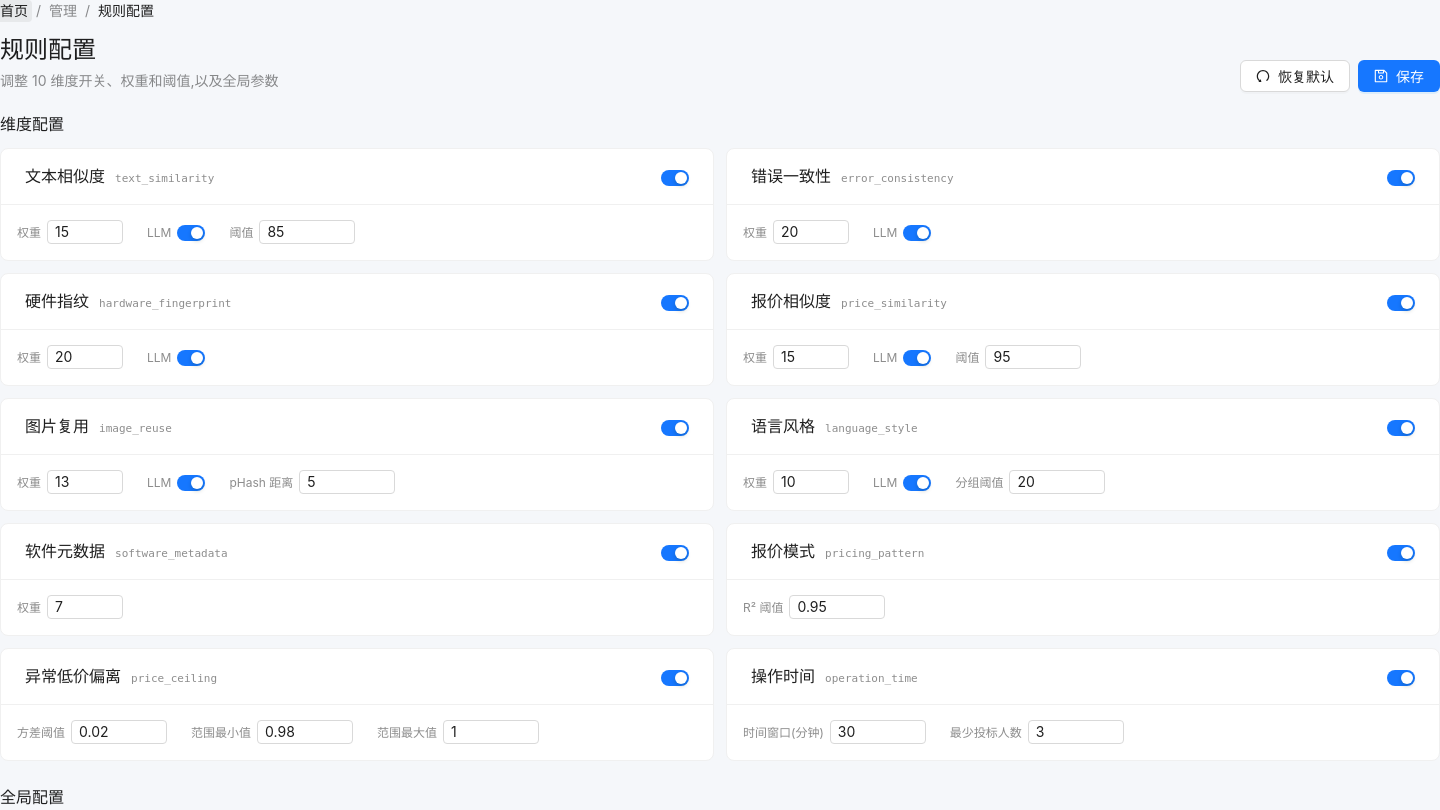
Test case: 恢复默认
Click the button with test id "restore-btn" at (1295, 76), box [1240,60,1350,92]
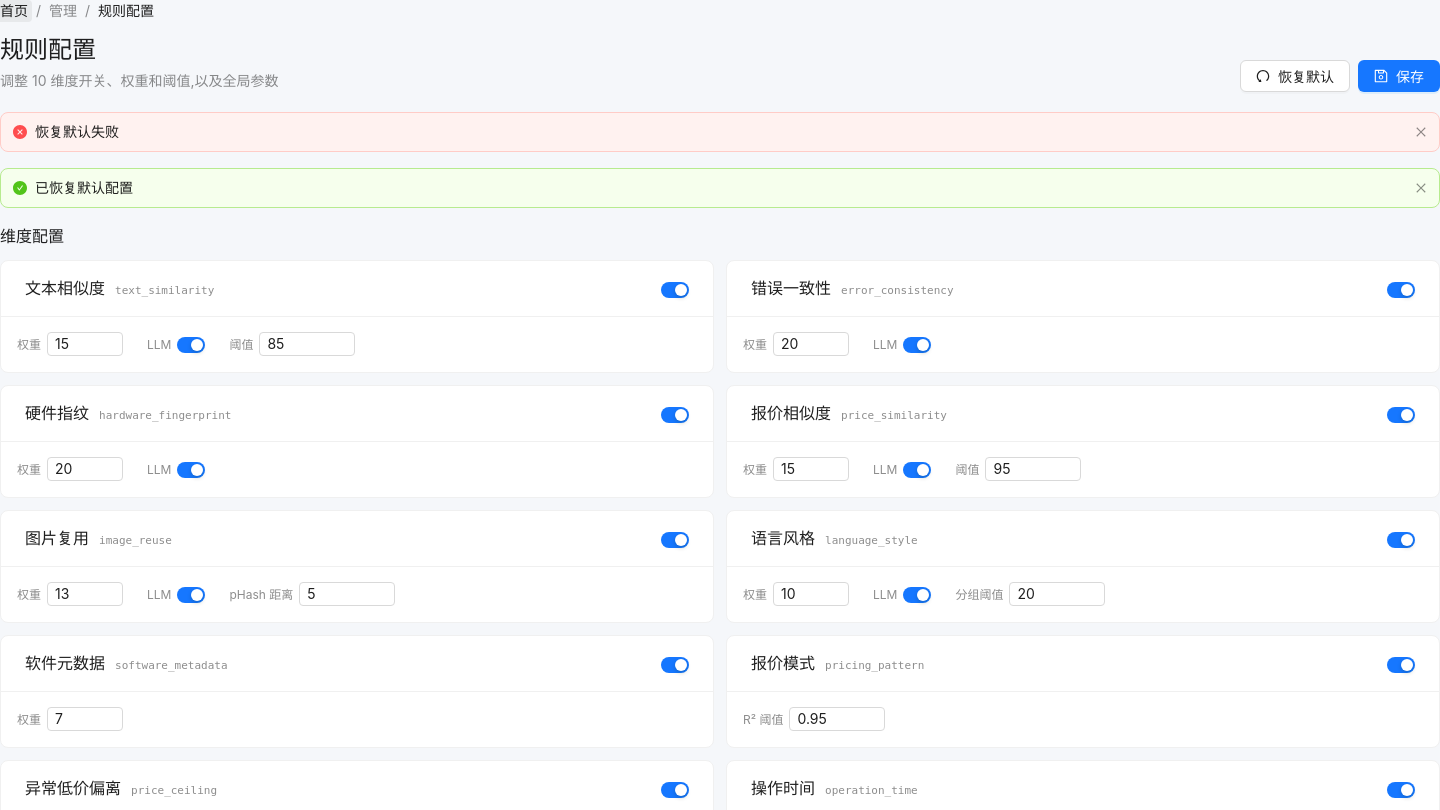
Result: the message with test id "success-msg" reads "已恢复默认配置" at [35,179,133,196]
